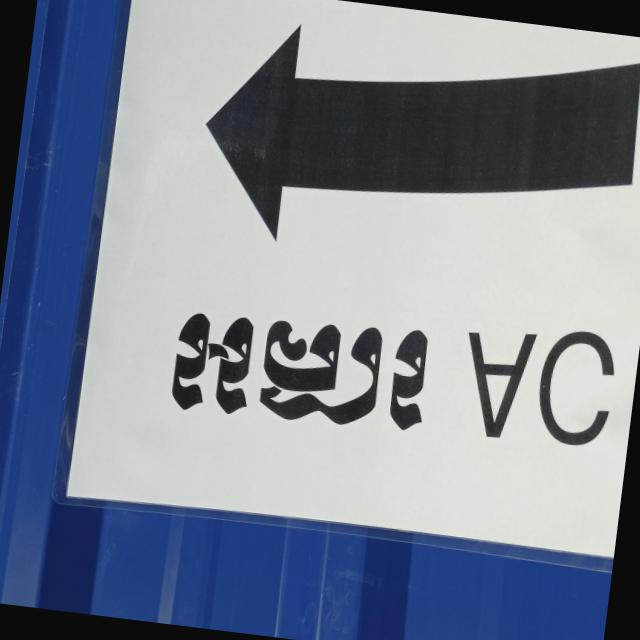Yolov11kh: (160, 295, 443, 447)
